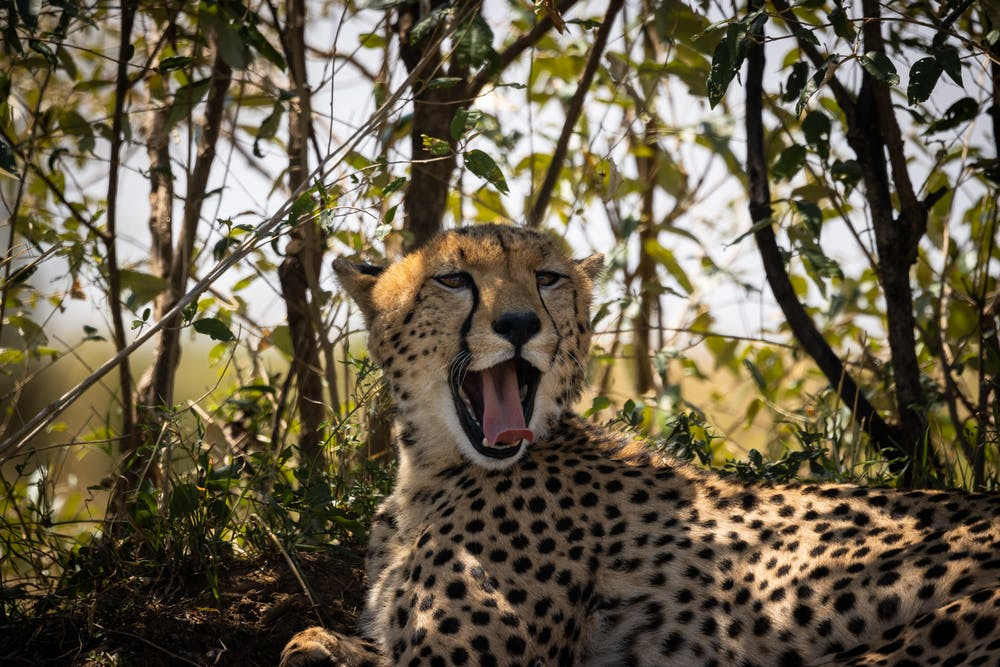cheetah: (302, 218, 635, 492)
